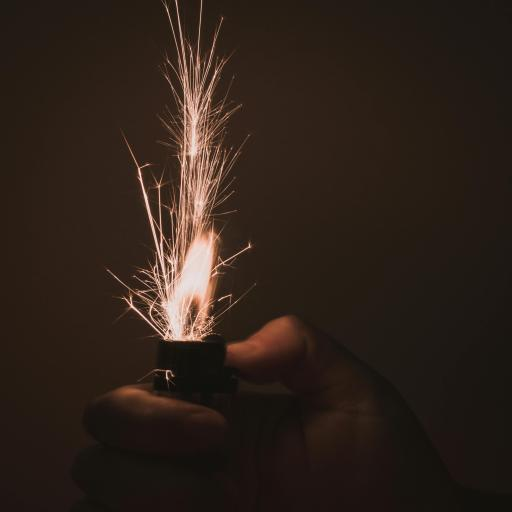lighter: (94, 16, 286, 462)
